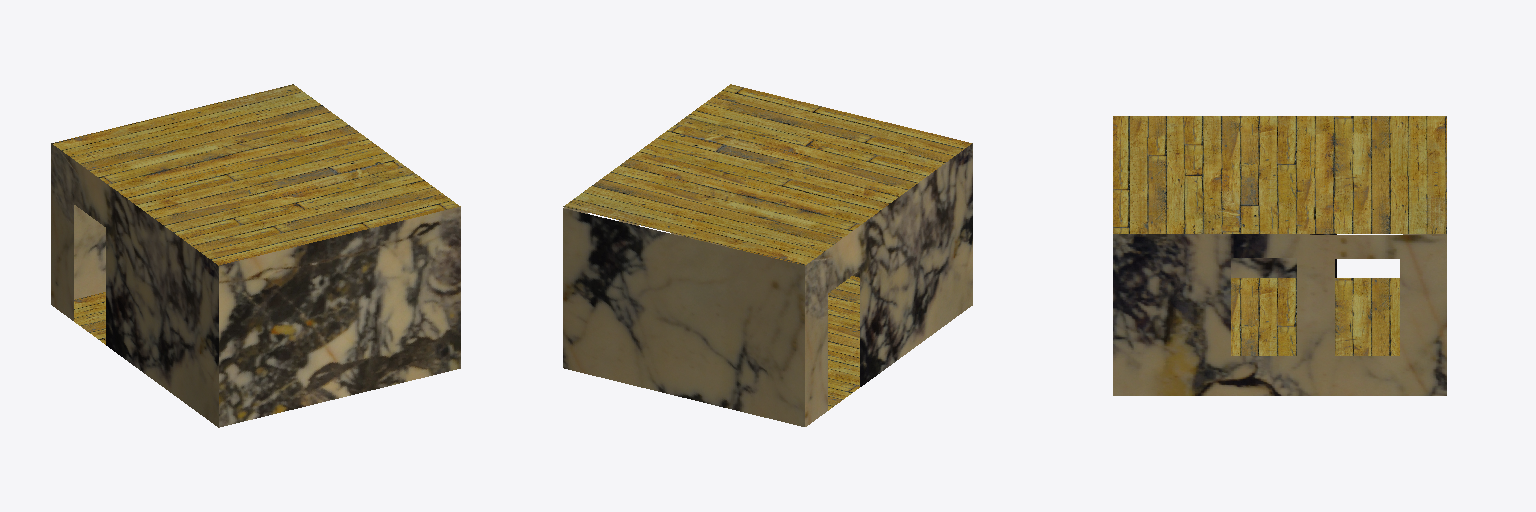
3 renders of one model, left to right at view 1: azimuth 30°, elevation 25°; view 2: azimuth 150°, elevation 25°; view 3: azimuth 270°, elevation 25°, orthographic.
Visible parts, largest first — view 1: object_3, object_1, object_2; view 2: object_3, object_1, object_2; view 3: object_3, object_1, object_2.
Part boxes in pixels (x1,y1,x2,y2): object_3: (51, 143, 460, 427); object_1: (52, 84, 460, 265); object_2: (74, 292, 105, 344); object_3: (563, 143, 972, 426); object_1: (563, 84, 971, 265); object_2: (729, 247, 859, 410); object_3: (1113, 234, 1446, 395); object_1: (1113, 116, 1446, 233); object_2: (1231, 278, 1399, 355).
Bounding box in the file's own units: 25.4 × 16.26 × 30.38.
2 materials, 2 textured.